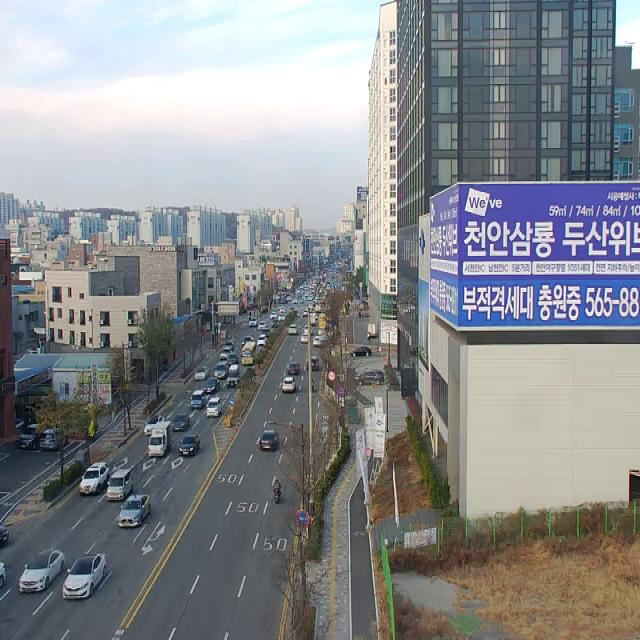Bus: (242, 342, 256, 366)
Car: (19, 550, 66, 594), (62, 554, 106, 600), (119, 494, 150, 528), (79, 462, 109, 495), (107, 469, 132, 501), (40, 427, 66, 451), (17, 424, 40, 450), (355, 368, 385, 384), (179, 434, 200, 456), (260, 429, 278, 452), (144, 416, 164, 435), (172, 413, 190, 432), (206, 397, 222, 418), (190, 389, 205, 409), (350, 345, 372, 358), (227, 365, 240, 386), (214, 361, 229, 379), (204, 377, 220, 393), (195, 366, 209, 381), (0, 524, 9, 547), (282, 378, 296, 392), (307, 356, 319, 371), (288, 362, 300, 376), (0, 560, 6, 588), (227, 354, 239, 365), (241, 336, 254, 346), (223, 340, 234, 351), (220, 348, 230, 359), (257, 335, 266, 347), (288, 324, 298, 334), (313, 336, 321, 348), (249, 317, 258, 327), (258, 322, 267, 331), (272, 319, 280, 328), (304, 325, 312, 334), (301, 334, 308, 344), (270, 312, 278, 319), (303, 309, 309, 318), (279, 314, 286, 320)
Truck: (148, 421, 171, 457), (368, 319, 379, 336)
